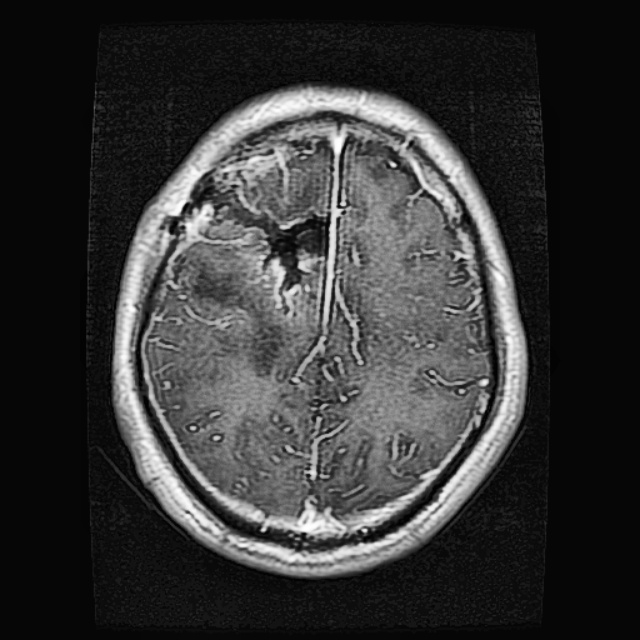Glioma: (215, 183, 333, 315)
